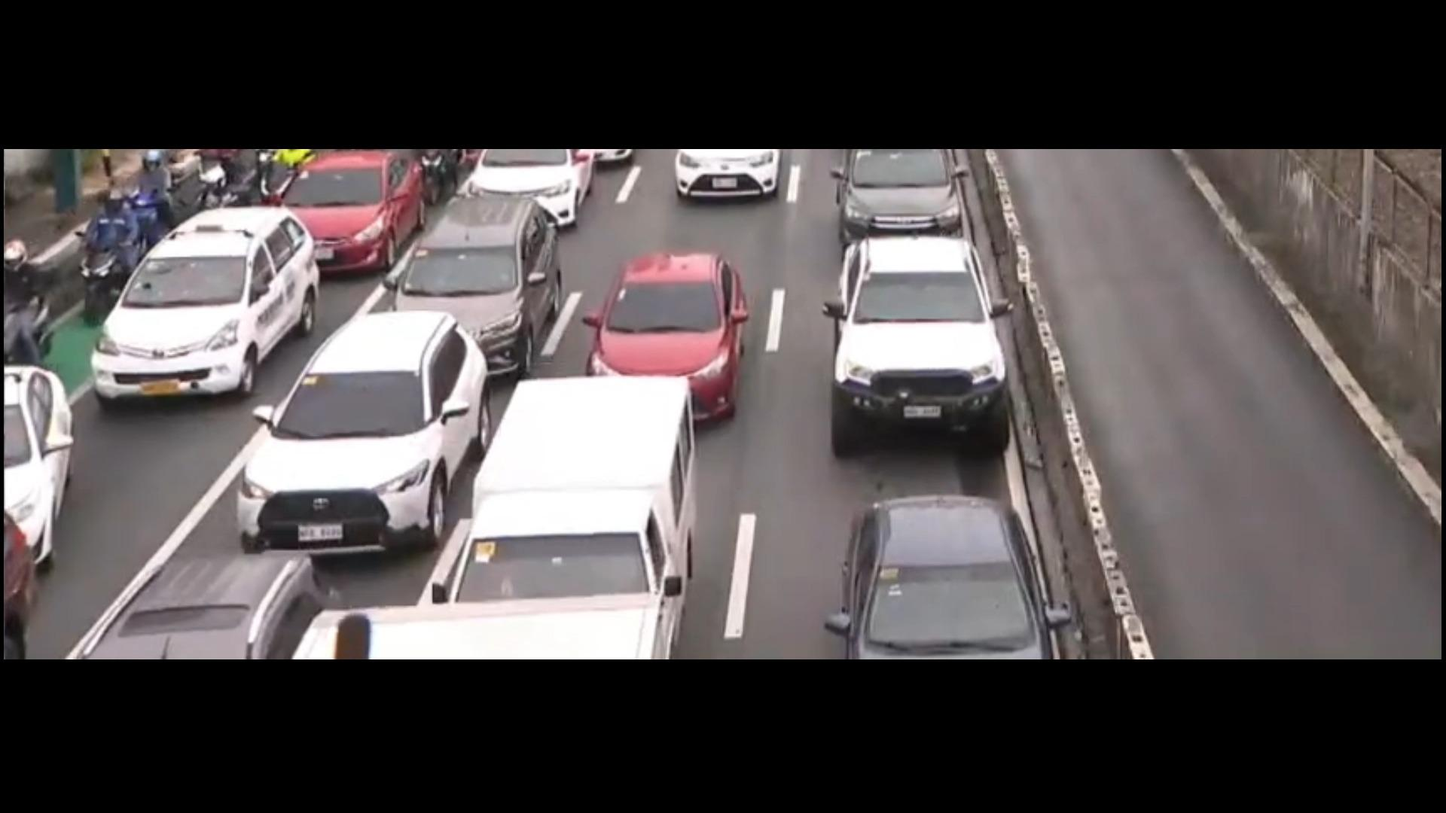Motorcycle: (74, 187, 137, 322), (3, 235, 55, 376), (116, 148, 172, 251), (193, 150, 237, 227)
Multicab: (429, 376, 698, 619)
SUV: (238, 311, 487, 556), (92, 207, 320, 400), (831, 235, 1006, 458), (393, 197, 563, 378), (86, 548, 322, 661), (833, 148, 969, 244)
Sedan: (830, 498, 1065, 659), (567, 254, 776, 416), (277, 149, 425, 274), (3, 364, 78, 564), (464, 148, 595, 229), (670, 148, 783, 199)
